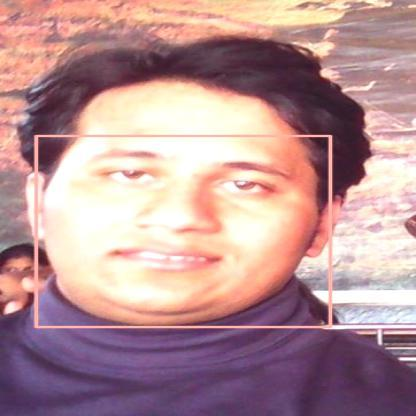without_mask: (36, 136, 330, 327)
